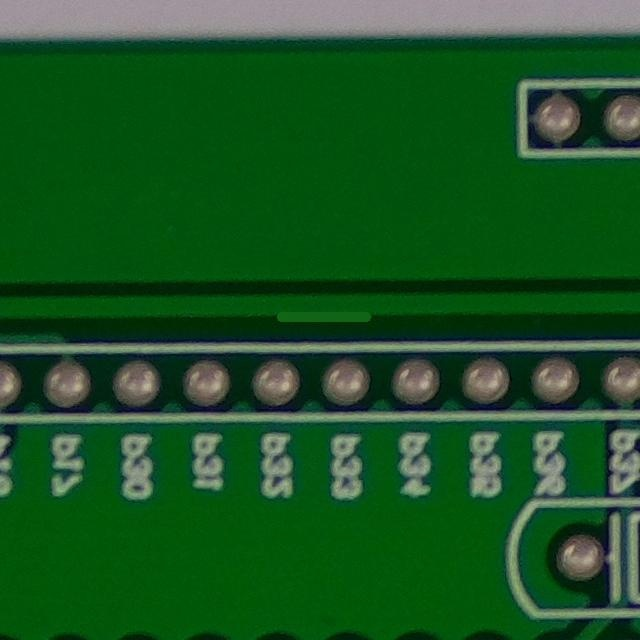spur: (250, 292, 390, 348)
